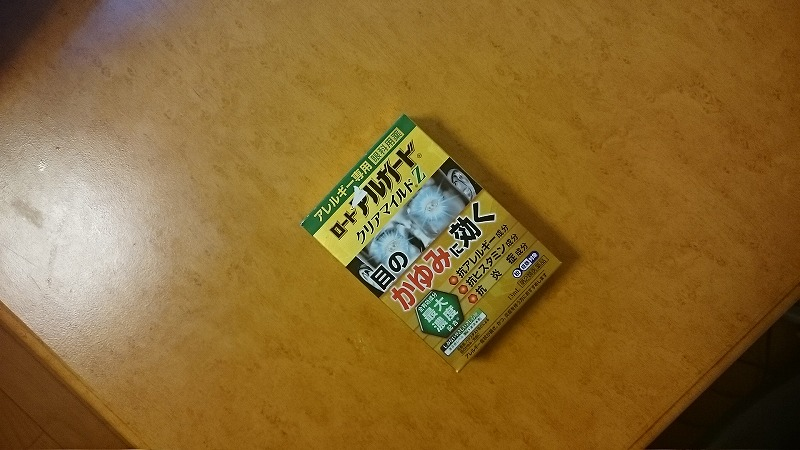C: (290, 102, 569, 382)
